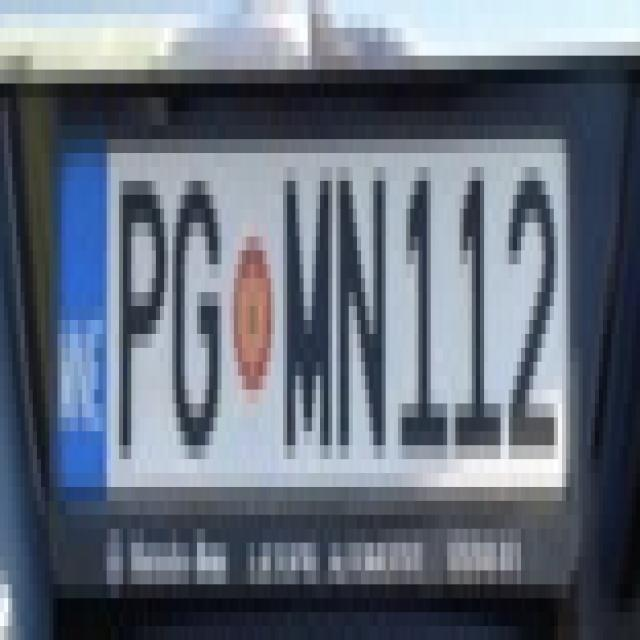1: (394, 161, 454, 458), (451, 170, 504, 472)
G: (169, 164, 228, 478)
M: (276, 146, 336, 465)
N: (336, 156, 392, 460)
P: (114, 164, 168, 486)
